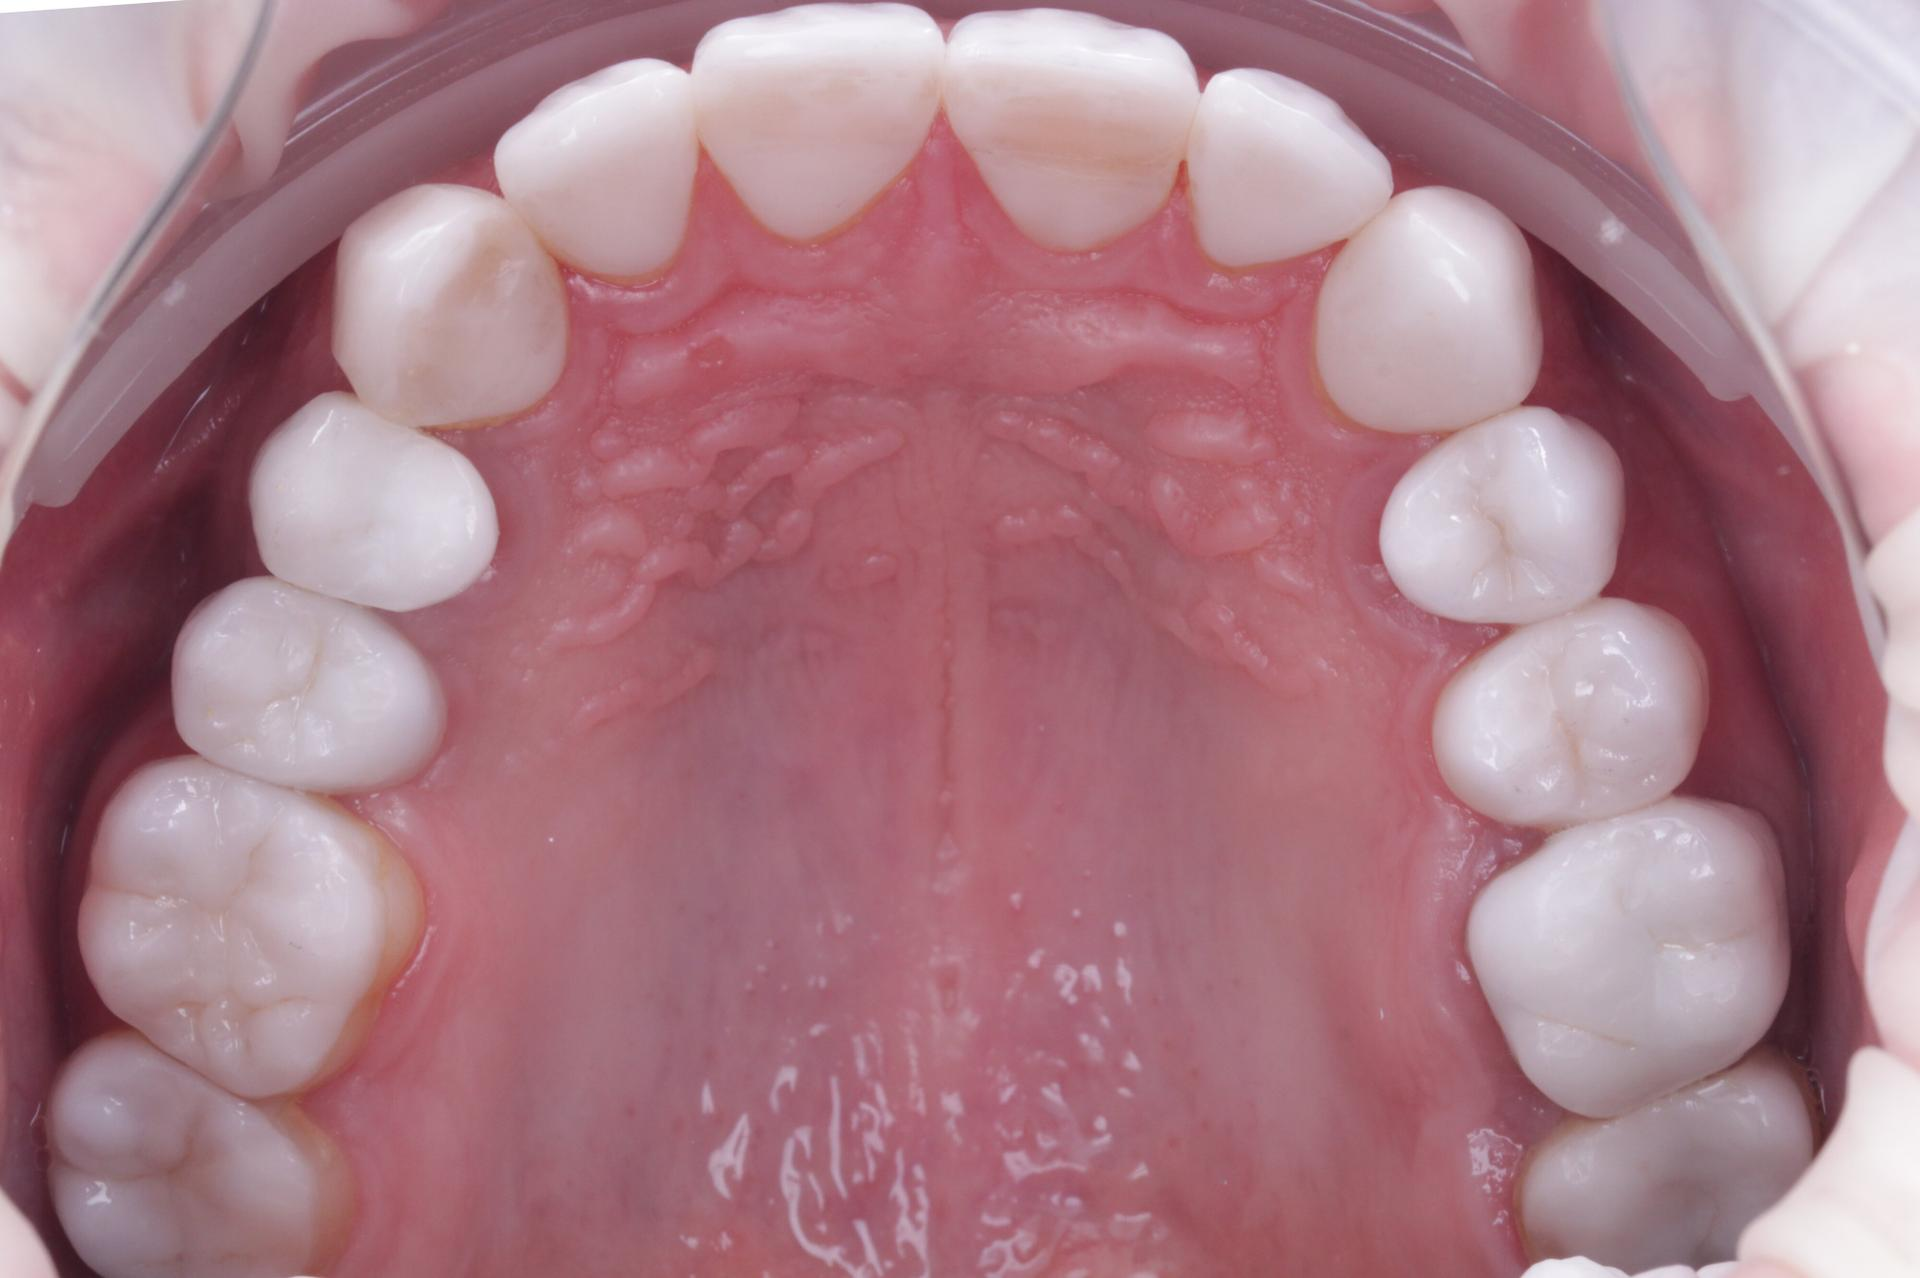UL1BC_healthy: (1379, 418, 1626, 610)
UL1M_healthy: (1465, 814, 1792, 1093)
UL2BC_healthy: (1436, 618, 1705, 826)
UL2M_healthy: (1546, 1103, 1775, 1228)
ULCI_healthy: (949, 10, 1190, 247)
ULC_healthy: (1327, 205, 1528, 419)
ULLI_healthy: (1185, 78, 1392, 270)
UR1BC_healthy: (261, 424, 504, 599)
UR1M_healthy: (81, 765, 428, 1065)
UR2BC_healthy: (175, 593, 446, 783)
UR2M_healthy: (40, 1060, 361, 1278)
URCI_healthy: (690, 10, 946, 232)
URC_healthy: (334, 193, 571, 416)
URLI_healthy: (506, 71, 709, 280)
